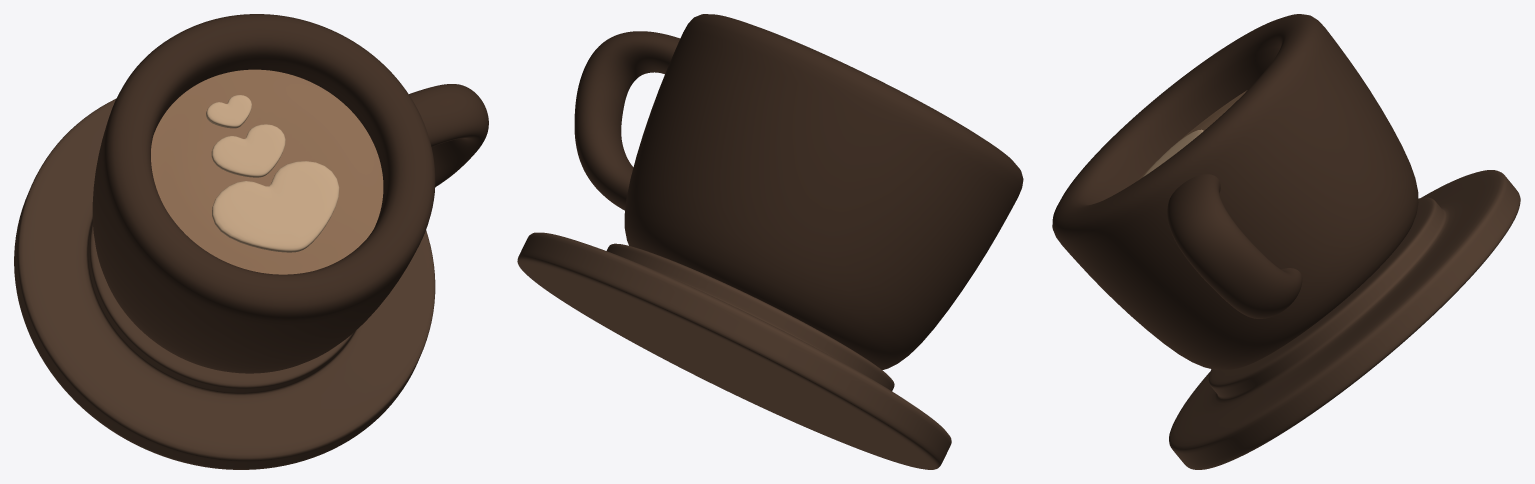
File: latte-with-heart-foam-art.glb
3 renders of one model, left to right at view 1: azimuth 30°, elevation 25°; view 2: azimuth 150°, elevation 25°; view 3: azimuth 270°, elevation 25°, orthographic. The views are drawn at different scales.
Parts seen in each view (by area): view 1: Cylinder.006, Cylinder.007, Cylinder.008, Plane, Torus, Plane.014, Plane.001; view 2: Cylinder.006, Cylinder.007, Torus; view 3: Cylinder.006, Cylinder.007, Torus.
Part boxes in pixels (bbox=[...]): Cylinder.006: bbox=[92, 14, 435, 373]; Cylinder.007: bbox=[14, 98, 435, 469]; Cylinder.008: bbox=[151, 69, 383, 274]; Plane: bbox=[212, 161, 339, 252]; Torus: bbox=[409, 84, 488, 186]; Plane.014: bbox=[211, 124, 285, 177]; Plane.001: bbox=[206, 95, 251, 128]; Cylinder.006: bbox=[624, 14, 1023, 369]; Cylinder.007: bbox=[517, 232, 951, 469]; Torus: bbox=[574, 31, 680, 210]; Cylinder.006: bbox=[1052, 14, 1418, 370]; Cylinder.007: bbox=[1169, 170, 1520, 469]; Torus: bbox=[1167, 174, 1302, 318].
Size of the model in its own units: 6.46 by 6.62 by 6.82.
